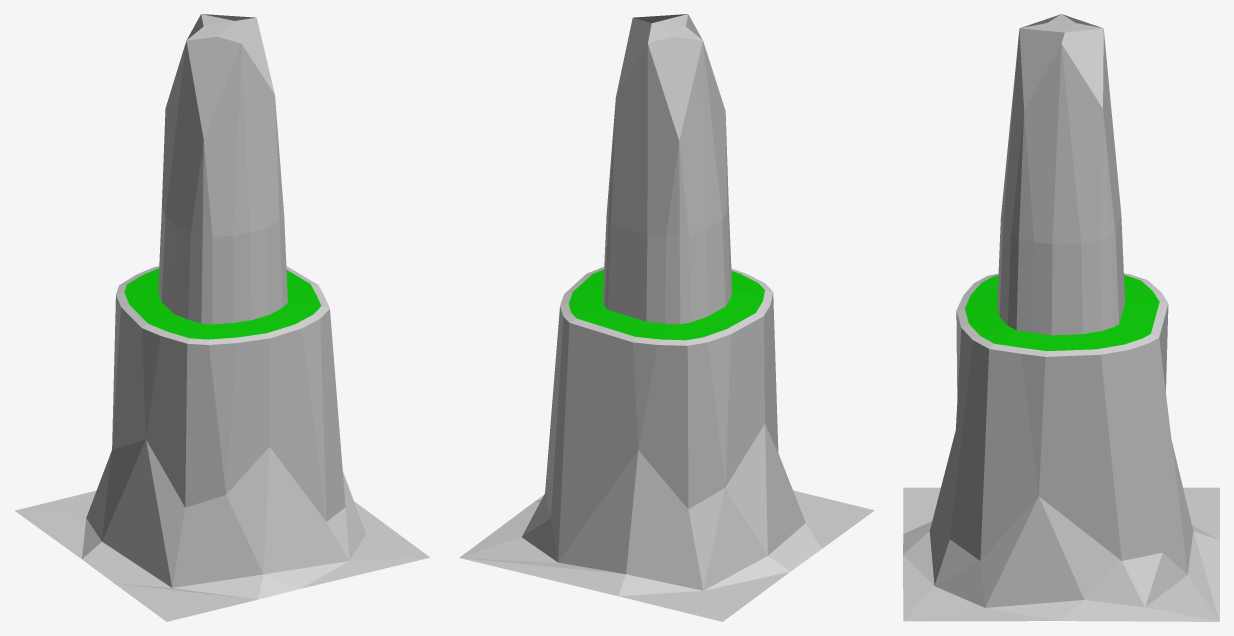
File: ak_pointyclimb_mountain.fbx
3 renders of one model, left to right at view 1: azimuth 30°, elevation 25°; view 2: azimuth 150°, elevation 25°; view 3: azimuth 270°, elevation 25°, orthographic. The views are drawn at different scales.
Parts seen in each view (by area): view 1: Grid; view 2: Grid; view 3: Grid.
Boxes of the visible parts, x1,y1,x2,y2 form: Grid: (15,14,429,621); Grid: (459,14,874,621); Grid: (903,14,1219,621).
Size of the model in its own units: 200 by 369 by 200.
